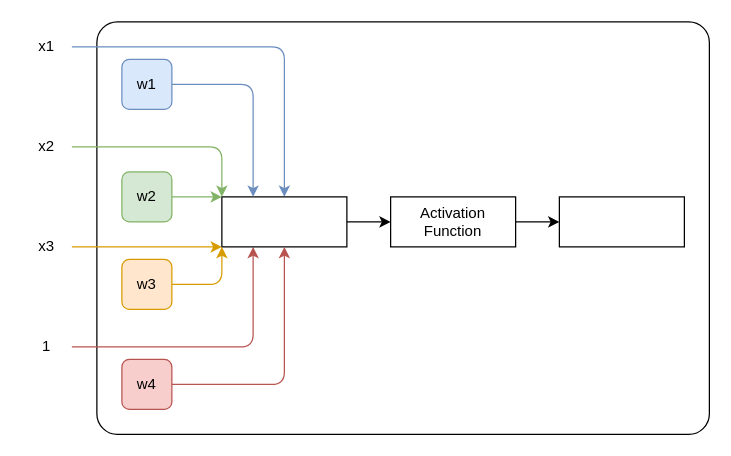
Image size: 731x456. Some labels were removed from this diagram. Here are the shapes that lost their labels. From the top down, the centre of each, then its label:
At [284,221]: "Scalar Product".
At [621,221]: "Learning Rule".
